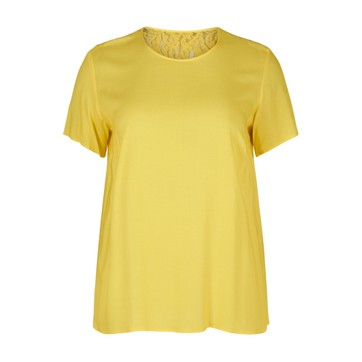C_short blouse: (63, 27, 302, 334)
